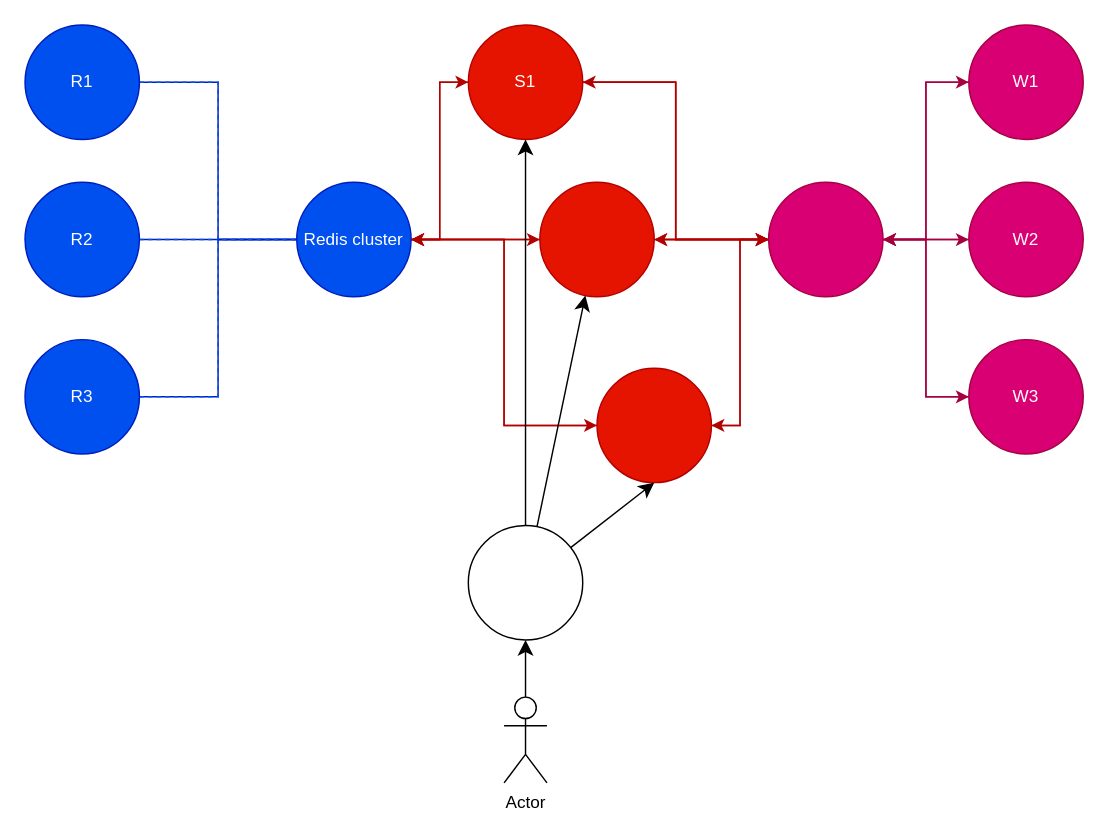
Image size: 1108x838. Some labels were removed from this diagram. Here are the shapes that lost their labels. From the top down, the box of each, then its label:
(538, 181, 654, 297): S2
(767, 181, 883, 297): worker-pool
(596, 367, 711, 483): S3
(467, 524, 583, 640): Ingress
